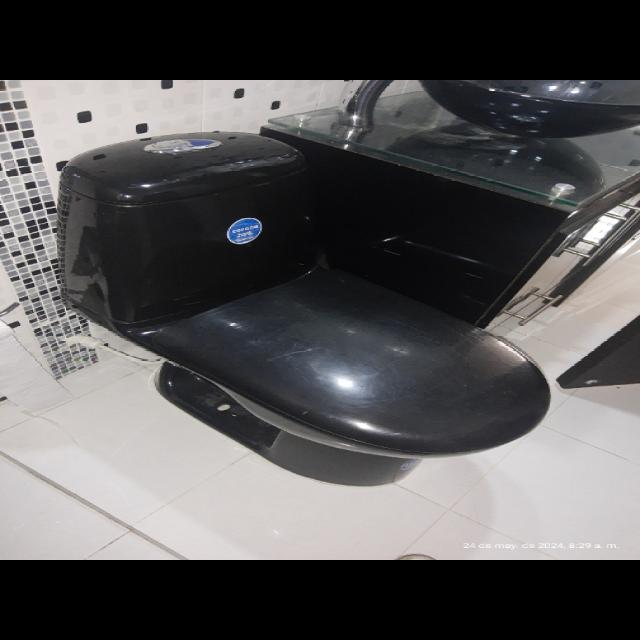toilet: (56, 130, 551, 487)
